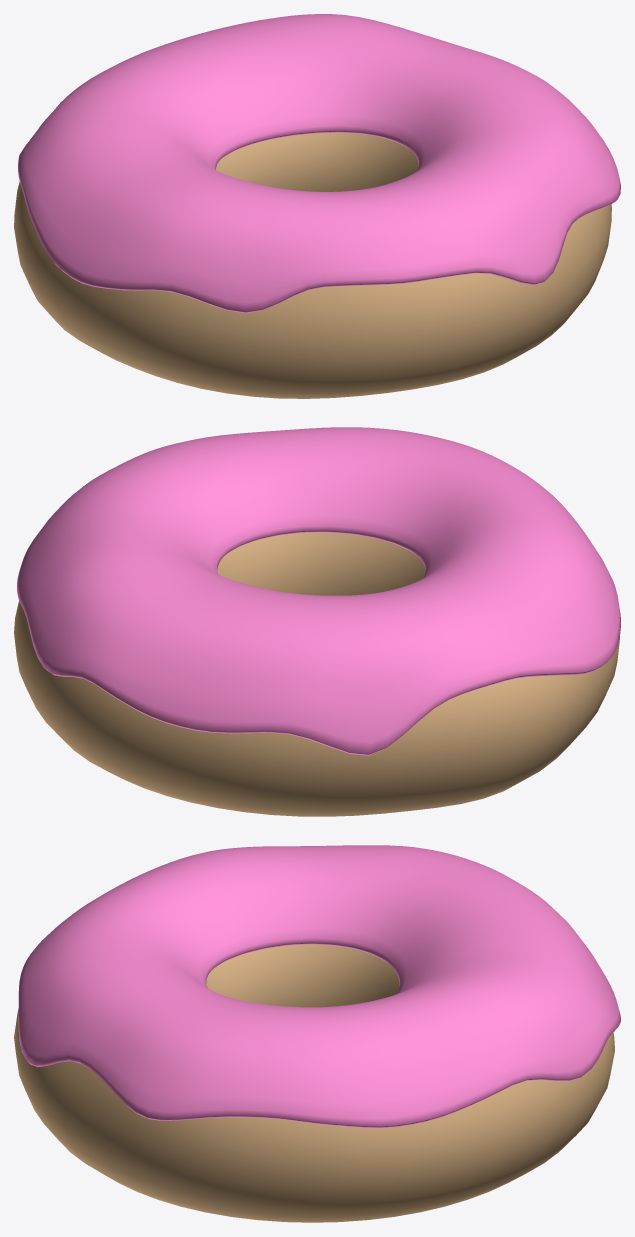
Rendered from donut.fbx.
The picture shows the model from 3 angles, top to bottom: view 1: azimuth 30°, elevation 25°; view 2: azimuth 150°, elevation 25°; view 3: azimuth 270°, elevation 25°; orthographic projection. The views are drawn at different scales.
Parts seen in each view (by area): view 1: Icing, Donut; view 2: Icing, Donut; view 3: Icing, Donut.
Part boxes in pixels (x1,y1,x2,y2): Icing: (18,14,620,313); Donut: (14,132,611,398); Icing: (17,427,620,755); Donut: (14,532,619,816); Icing: (18,845,620,1128); Donut: (14,944,614,1222).
Size of the model in its own units: 15.29 by 5.68 by 15.26.
